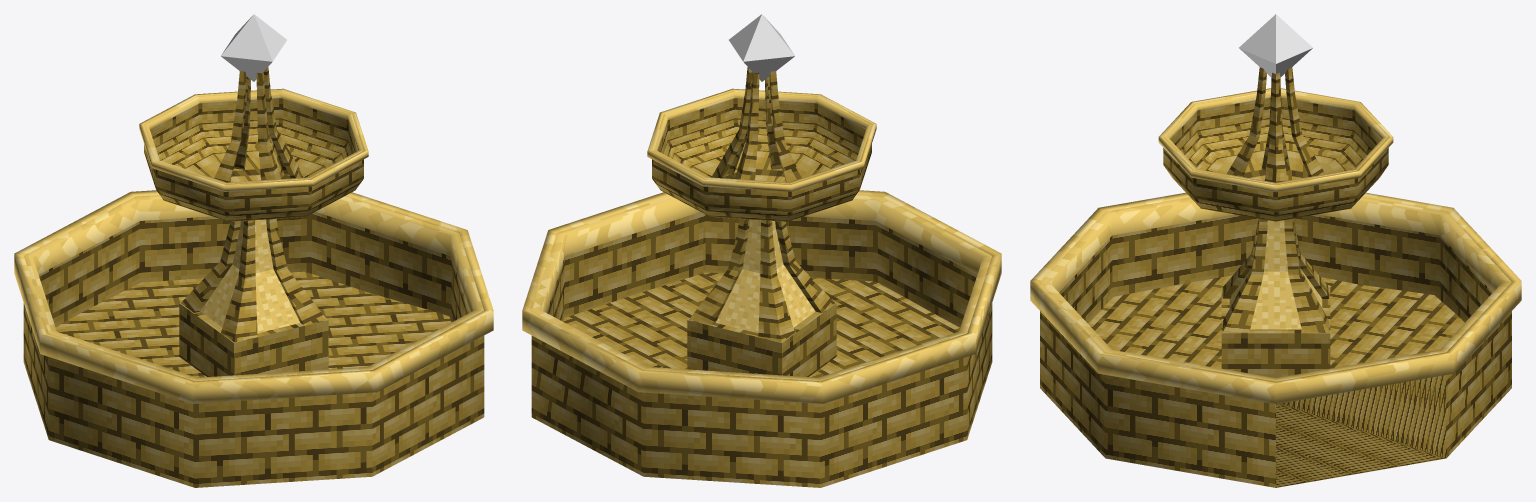
The model's file is Fountain.fbx.
3 views of the same model, side by side, from view 1: azimuth 30°, elevation 25°; view 2: azimuth 150°, elevation 25°; view 3: azimuth 270°, elevation 25° (orthographic).
Visible parts, largest first — view 1: Cube.009, Cube.006, Cube.010, Plane, Cube.005, Cube.001, Cube.004, Cube.008, Cube.007, Cube.003; view 2: Cube.009, Cube.006, Cube.010, Plane, Cube.005, Cube.001, Cube.004, Cube.008, Cube.007, Cube.003; view 3: Cube.009, Cube.006, Plane, Cube.010, Cube.001, Cube.005, Cube.004, Cube.008, Cube.007, Cube.003.
Boxes of the visible parts, bbox=[...] form: Cube.009: bbox=[23, 212, 484, 487]; Cube.006: bbox=[14, 190, 493, 403]; Cube.010: bbox=[144, 98, 363, 221]; Plane: bbox=[55, 271, 451, 377]; Cube.005: bbox=[179, 302, 328, 376]; Cube.001: bbox=[181, 219, 326, 342]; Cube.004: bbox=[139, 88, 368, 191]; Cube.008: bbox=[214, 67, 303, 182]; Cube.007: bbox=[200, 219, 300, 333]; Cube.003: bbox=[221, 14, 286, 81]; Cube.009: bbox=[531, 212, 992, 487]; Cube.006: bbox=[522, 190, 1001, 403]; Cube.010: bbox=[652, 98, 871, 221]; Plane: bbox=[563, 272, 959, 377]; Cube.005: bbox=[687, 302, 836, 376]; Cube.001: bbox=[689, 219, 834, 342]; Cube.004: bbox=[647, 88, 876, 191]; Cube.008: bbox=[712, 67, 801, 182]; Cube.007: bbox=[715, 219, 815, 333]; Cube.003: bbox=[729, 14, 794, 81]; Cube.009: bbox=[1040, 214, 1511, 487]; Cube.006: bbox=[1030, 192, 1521, 404]; Plane: bbox=[1088, 275, 1464, 368]; Cube.010: bbox=[1163, 97, 1388, 221]; Cube.001: bbox=[1222, 218, 1329, 332]; Cube.005: bbox=[1221, 287, 1330, 377]; Cube.004: bbox=[1158, 88, 1393, 192]; Cube.008: bbox=[1226, 67, 1325, 182]; Cube.007: bbox=[1229, 220, 1322, 329]; Cube.003: bbox=[1239, 14, 1312, 77].
Size of the model in its own units: 695 by 593 by 695.
